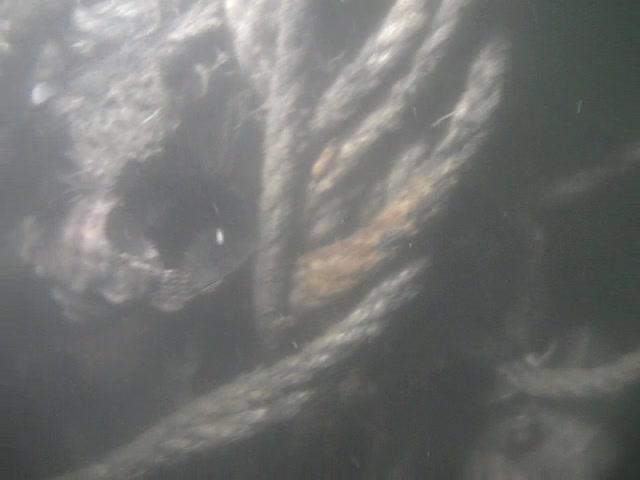bundle of ropes: (62, 0, 640, 480)
